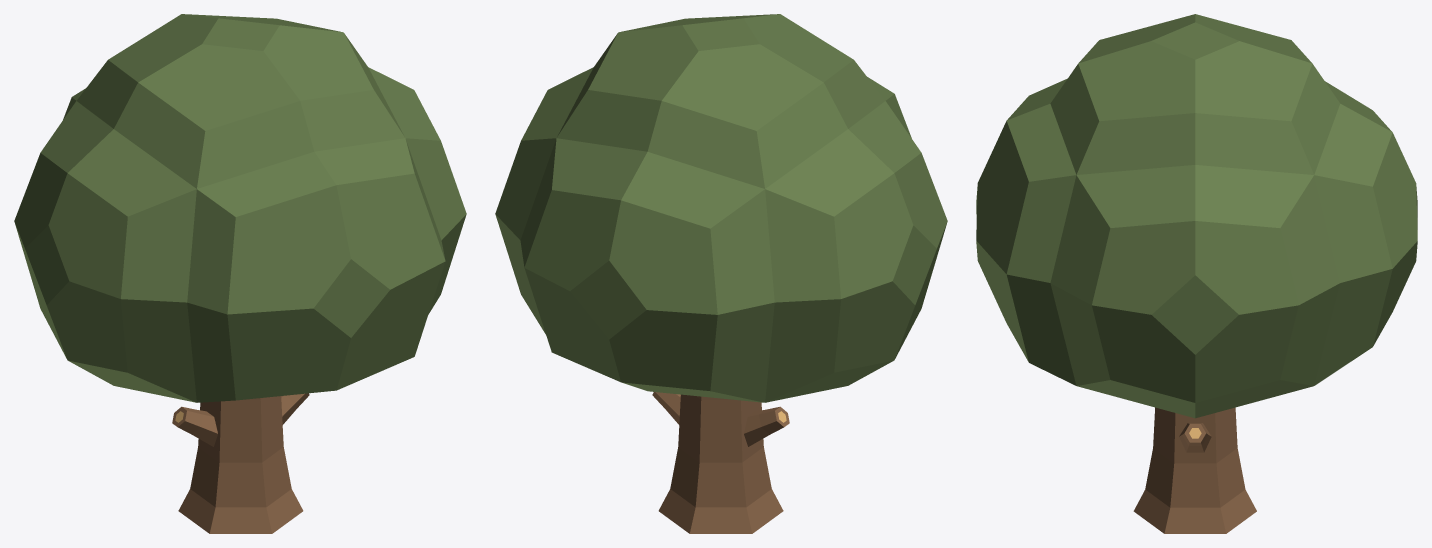
The model's file is Tree1.fbx.
3 renders of one model, left to right at view 1: azimuth 30°, elevation 25°; view 2: azimuth 150°, elevation 25°; view 3: azimuth 270°, elevation 25°, orthographic.
Parts seen in each view (by area): view 1: Cube.002, Circle.014, Circle.015; view 2: Cube.002, Circle.014, Circle.015; view 3: Cube.002, Circle.014, Circle.015.
Part boxes in pixels (bbox=[...]): Cube.002: bbox=[14, 14, 466, 402]; Circle.014: bbox=[178, 396, 303, 533]; Circle.015: bbox=[172, 393, 309, 446]; Cube.002: bbox=[495, 14, 947, 402]; Circle.014: bbox=[658, 394, 783, 533]; Circle.015: bbox=[652, 392, 789, 446]; Cube.002: bbox=[976, 14, 1417, 418]; Circle.014: bbox=[1133, 407, 1256, 533]; Circle.015: bbox=[1179, 423, 1211, 452].
Size of the model in its own units: 4.57 by 4.56 by 5.36.
